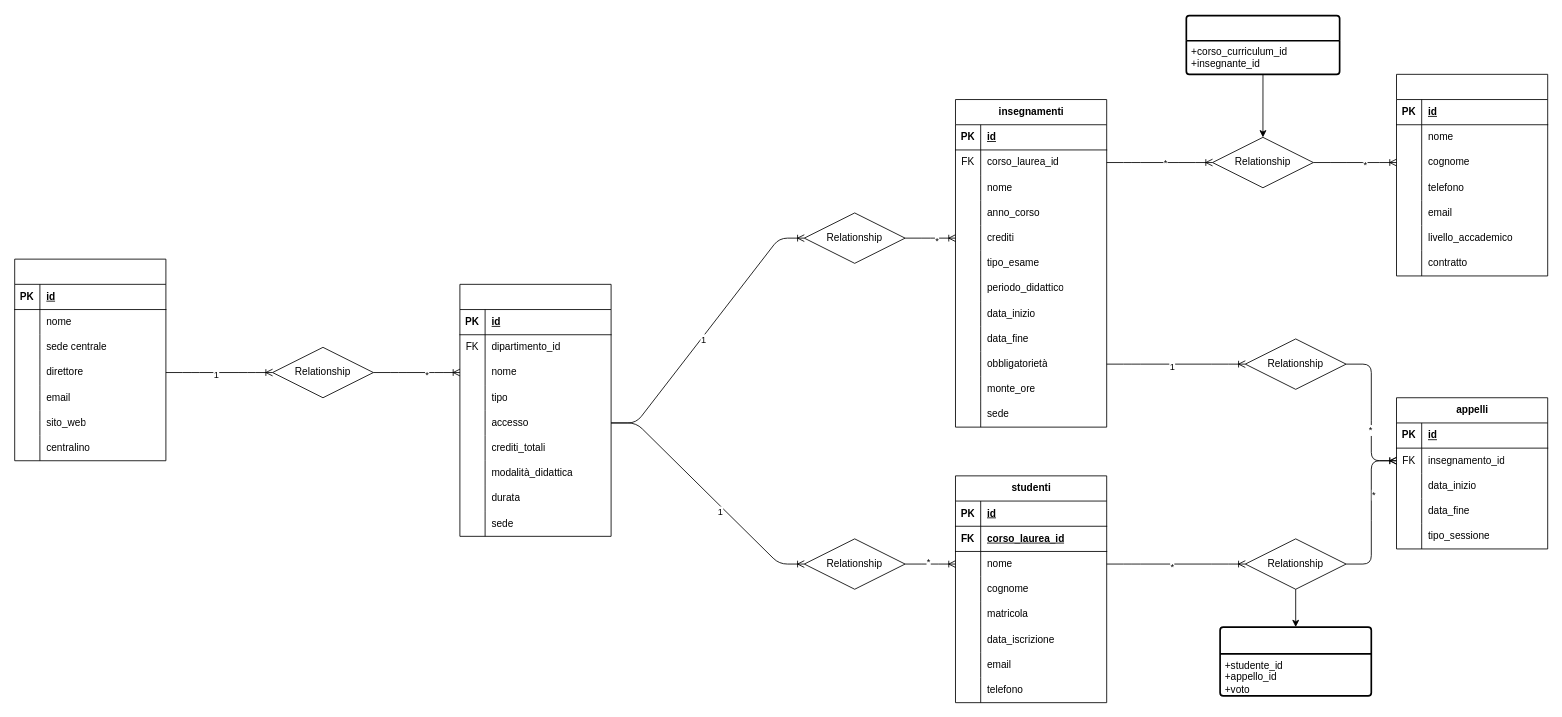
Image size: 1562x717. Some labels were removed from this diagram. Here are the shapes that lost their labels. From the top down, the box of each, then its label:
(1185, 14, 1340, 75): insegnamento_insegnante
(1396, 74, 1548, 276): insegnanti
(14, 258, 166, 461): dipartimenti
(459, 284, 611, 536): corsi_laurea
(1219, 626, 1372, 696): studente_appello
